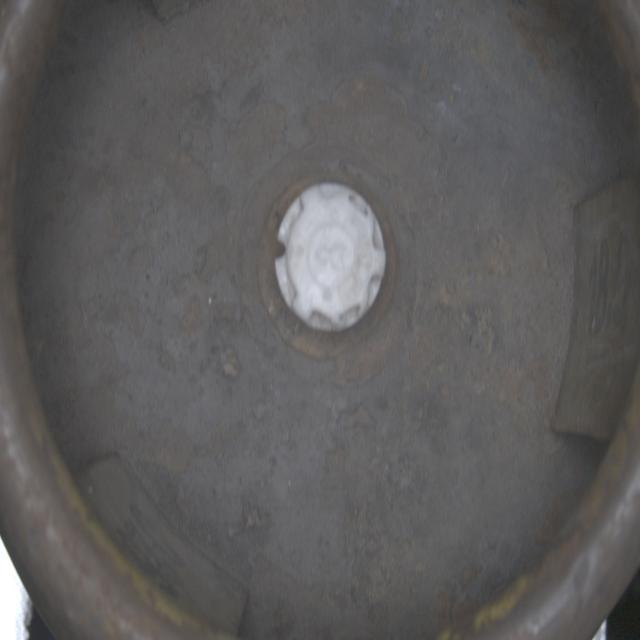Cap: (272, 182, 391, 335)
